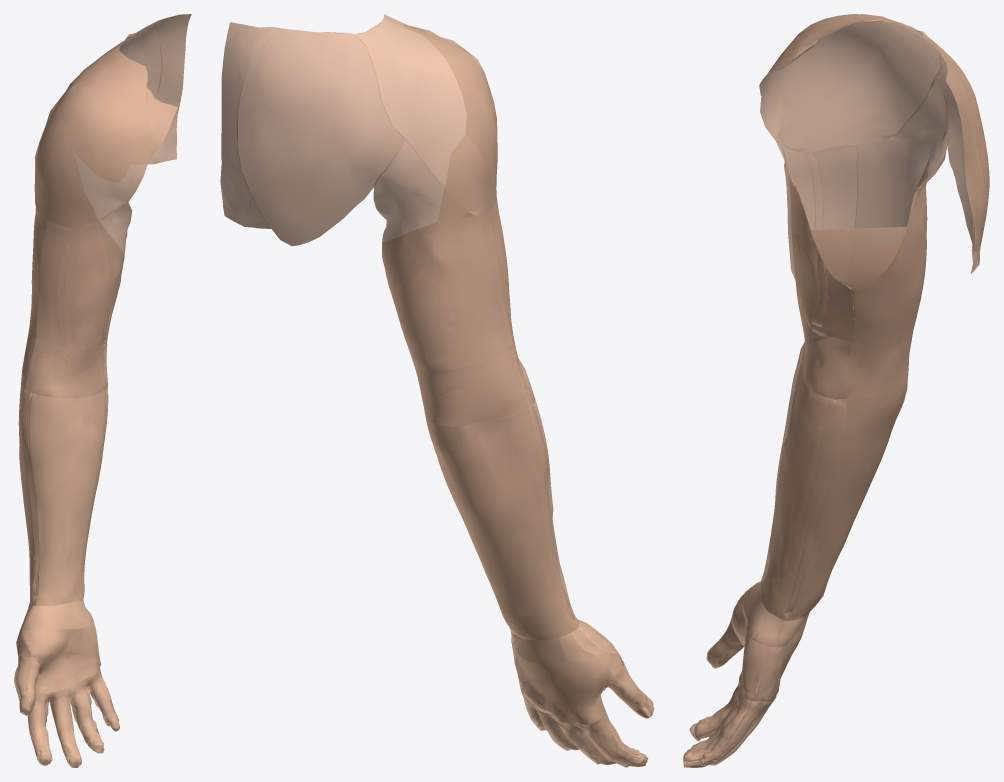
Rendered from regions.upper_limb_right.glb.
3 renders of one model, left to right at view 1: azimuth 30°, elevation 25°; view 2: azimuth 150°, elevation 25°; view 3: azimuth 270°, elevation 25°, orthographic. The views are drawn at different scales.
Visible parts, largest first — view 1: right_deltoid_region, right_anterior_region_of_forearm, right_anterior_region_of_arm, right_palmar_surfaces_of_digits_of_hand, right_palm, right_anterior_region_of_elbow, right_interscapular_region, right_dorsal_surfaces_of_digits_of_hand, right_scapular_region, right_anterior_region_of_wrist, right_lateral_border_of_forearm, right_posterior_region_of_forearm (+5 smaller); view 2: right_scapular_region, right_posterior_region_of_arm, right_posterior_region_of_forearm, right_deltoid_region, right_posterior_region_of_elbow, right_interscapular_region, right_dorsum_of_hand, right_dorsal_surfaces_of_digits_of_hand, right_posterior_region_of_wrist, right_anterior_region_of_arm, right_lateral_border_of_forearm, right_anterior_region_of_forearm; view 3: right_deltoid_region, right_posterior_region_of_arm, right_anterior_region_of_arm, right_anterior_region_of_forearm, right_posterior_region_of_forearm, right_scapular_region, right_posterior_region_of_elbow, right_palmar_surfaces_of_digits_of_hand, right_anterior_region_of_elbow, right_interscapular_region, right_medial_border_of_forearm, right_palm (+7 smaller).
Boxes of the visible parts, box(x1,y1,x2,y2) form: right_deltoid_region: box(34, 46, 151, 228); right_anterior_region_of_forearm: box(27, 384, 108, 605); right_anterior_region_of_arm: box(34, 201, 132, 349); right_palmar_surfaces_of_digits_of_hand: box(25, 656, 119, 767); right_palm: box(22, 620, 101, 694); right_anterior_region_of_elbow: box(24, 338, 107, 398); right_interscapular_region: box(147, 14, 191, 164); right_dorsal_surfaces_of_digits_of_hand: box(14, 655, 119, 767); right_scapular_region: box(80, 24, 161, 98); right_anterior_region_of_wrist: box(22, 600, 93, 632); right_lateral_border_of_forearm: box(21, 389, 39, 596); right_posterior_region_of_forearm: box(18, 385, 82, 605); right_scapular_region: box(236, 29, 405, 246); right_posterior_region_of_arm: box(373, 139, 514, 370); right_posterior_region_of_forearm: box(425, 408, 578, 640); right_deltoid_region: box(354, 14, 497, 215); right_posterior_region_of_elbow: box(413, 348, 529, 427); right_interscapular_region: box(220, 22, 286, 228); right_dorsum_of_hand: box(512, 641, 622, 725); right_dorsal_surfaces_of_digits_of_hand: box(520, 660, 654, 767); right_posterior_region_of_wrist: box(510, 627, 602, 664); right_anterior_region_of_arm: box(490, 197, 514, 347); right_lateral_border_of_forearm: box(529, 403, 574, 620); right_anterior_region_of_forearm: box(530, 392, 579, 626); right_deltoid_region: box(760, 14, 941, 152); right_posterior_region_of_arm: box(811, 76, 948, 343); right_anterior_region_of_arm: box(775, 140, 857, 342); right_anterior_region_of_forearm: box(760, 346, 836, 620); right_posterior_region_of_forearm: box(784, 370, 908, 620); right_scapular_region: box(906, 25, 989, 243); right_posterior_region_of_elbow: box(845, 320, 915, 397); right_palmar_surfaces_of_digits_of_hand: box(683, 617, 753, 765); right_anterior_region_of_elbow: box(799, 327, 852, 399); right_interscapular_region: box(939, 51, 987, 273); right_medial_border_of_forearm: box(785, 398, 846, 612); right_palm: box(731, 591, 772, 700).
Bounding box in the file's own units: 0.3079 × 0.7153 × 0.2412.
